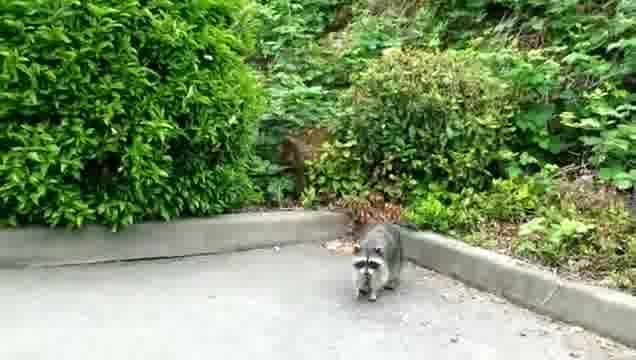raccoon: (352, 225, 410, 301)
